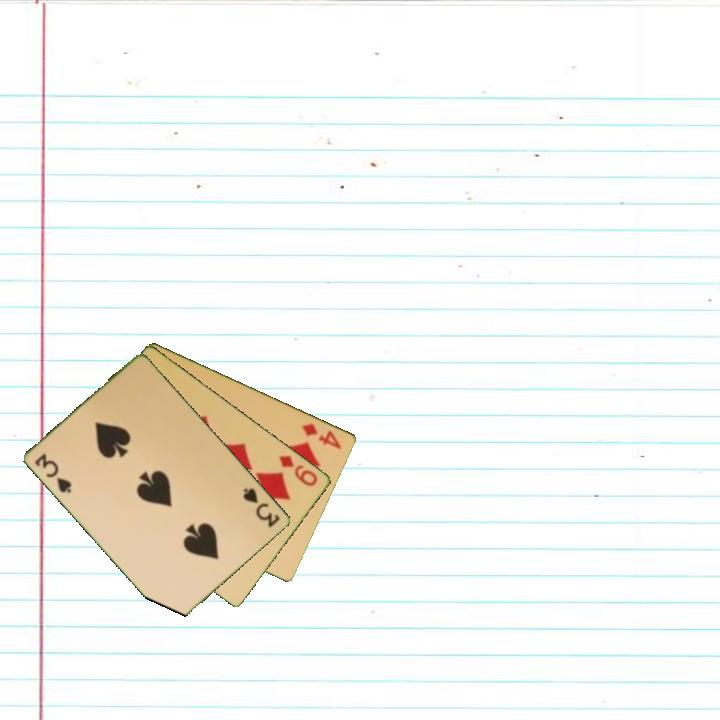3s: (31, 449, 75, 496), (240, 484, 283, 530)
4d: (298, 419, 344, 452)
9d: (276, 452, 321, 489)
